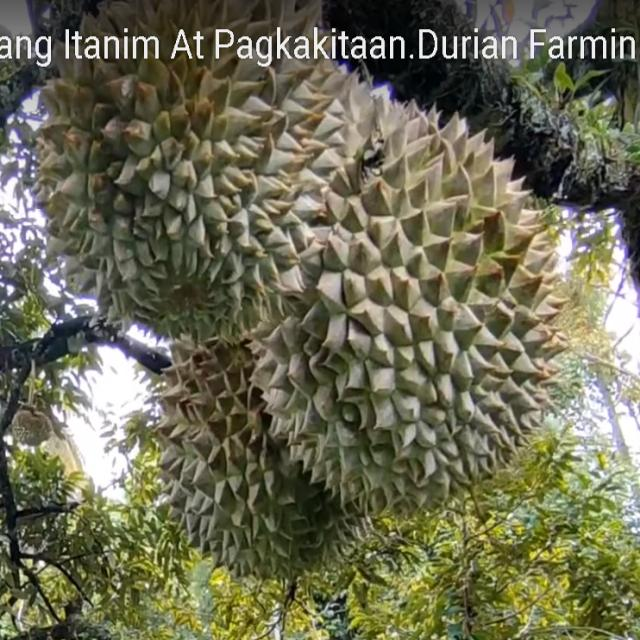immature: (245, 86, 565, 511), (152, 307, 370, 588)
